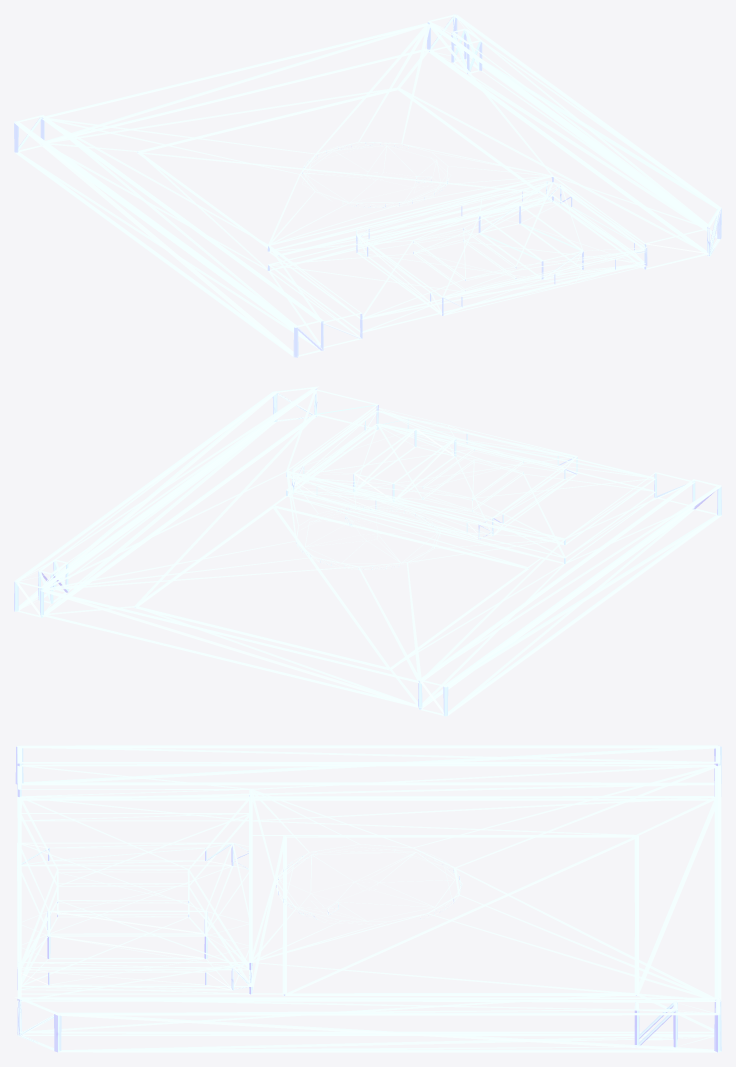
The model's file is discs.glb.
3 views of the same model, one above another, from view 1: azimuth 30°, elevation 25°; view 2: azimuth 150°, elevation 25°; view 3: azimuth 270°, elevation 25° (orthographic). The views are drawn at different scales.
Visible parts, largest first — view 1: scene; view 2: scene; view 3: scene.
Boxes of the visible parts, box(x1,y1,x2,y2) form: scene: box(14, 14, 721, 357); scene: box(14, 386, 721, 716); scene: box(15, 745, 721, 1052).
Bounding box in the file's own units: 2.62 × 0.169 × 2.9.
